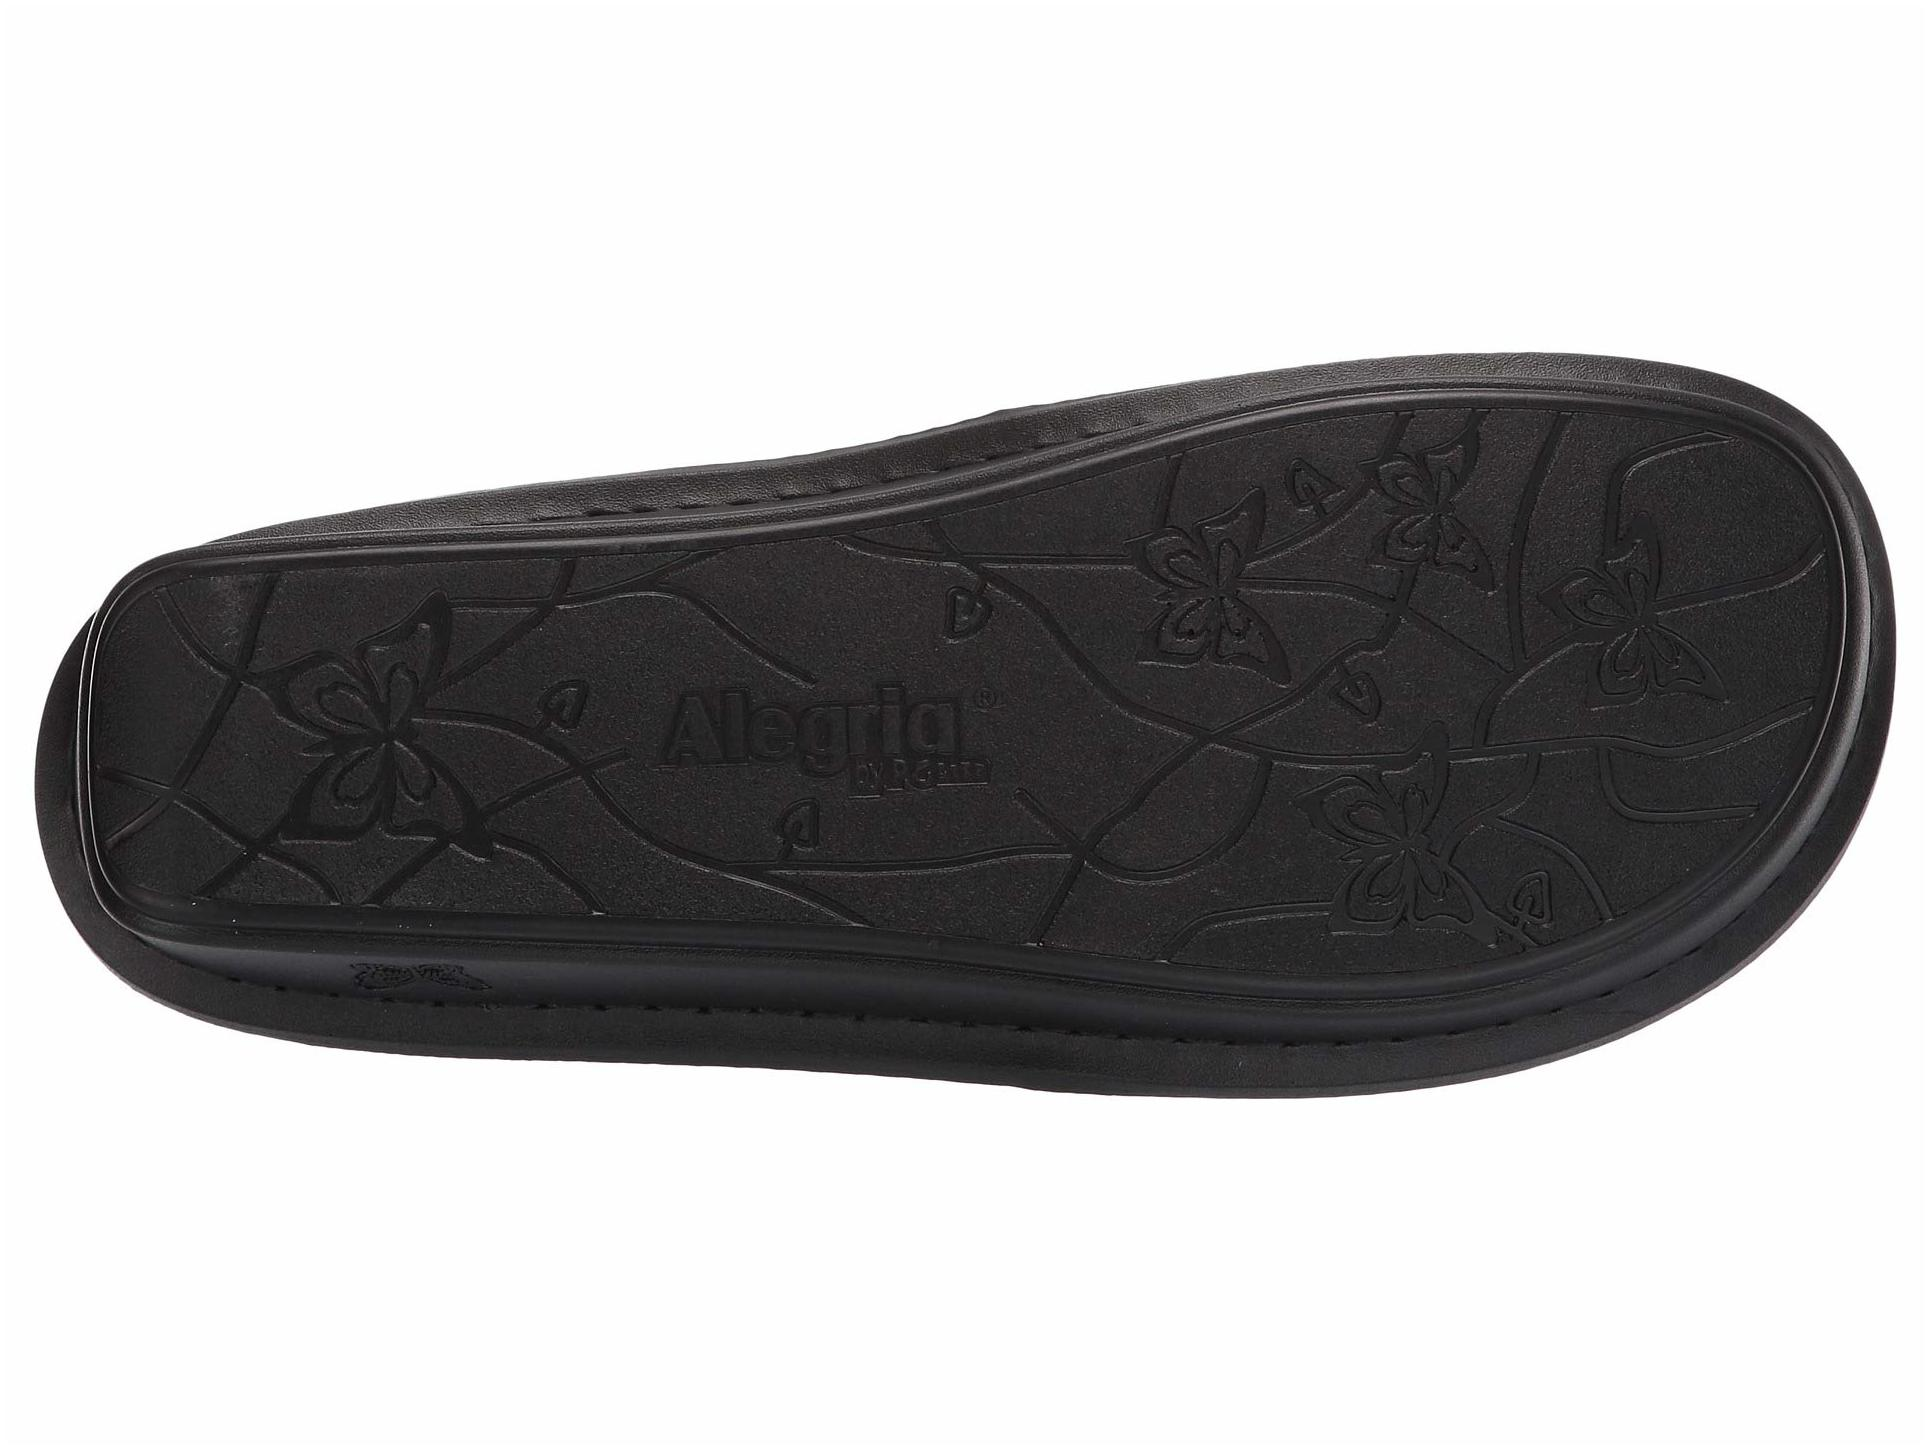bowtie: (1098, 471, 1519, 932), (178, 599, 583, 947)
circle: (603, 589, 1050, 911)
quad: (178, 599, 583, 947)
star: (1098, 471, 1519, 932), (178, 599, 583, 947)
text: (603, 589, 1050, 911)
triangle: (1098, 471, 1519, 932), (603, 589, 1050, 911), (178, 599, 583, 947)
